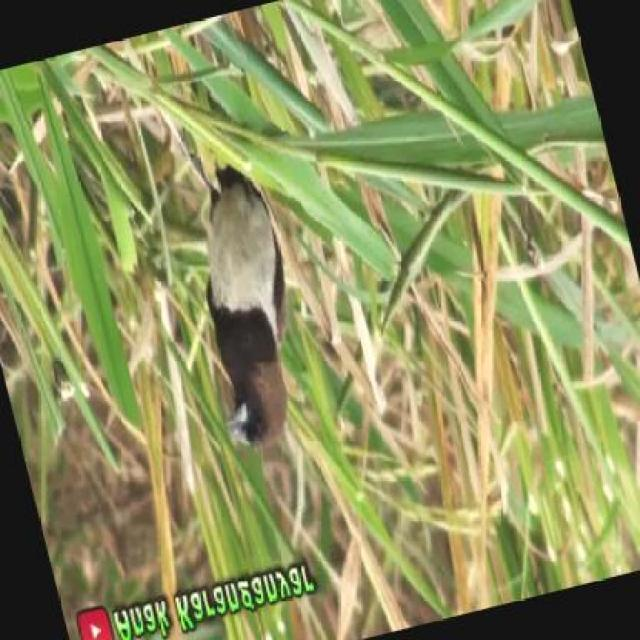Bird: (193, 151, 299, 454)
